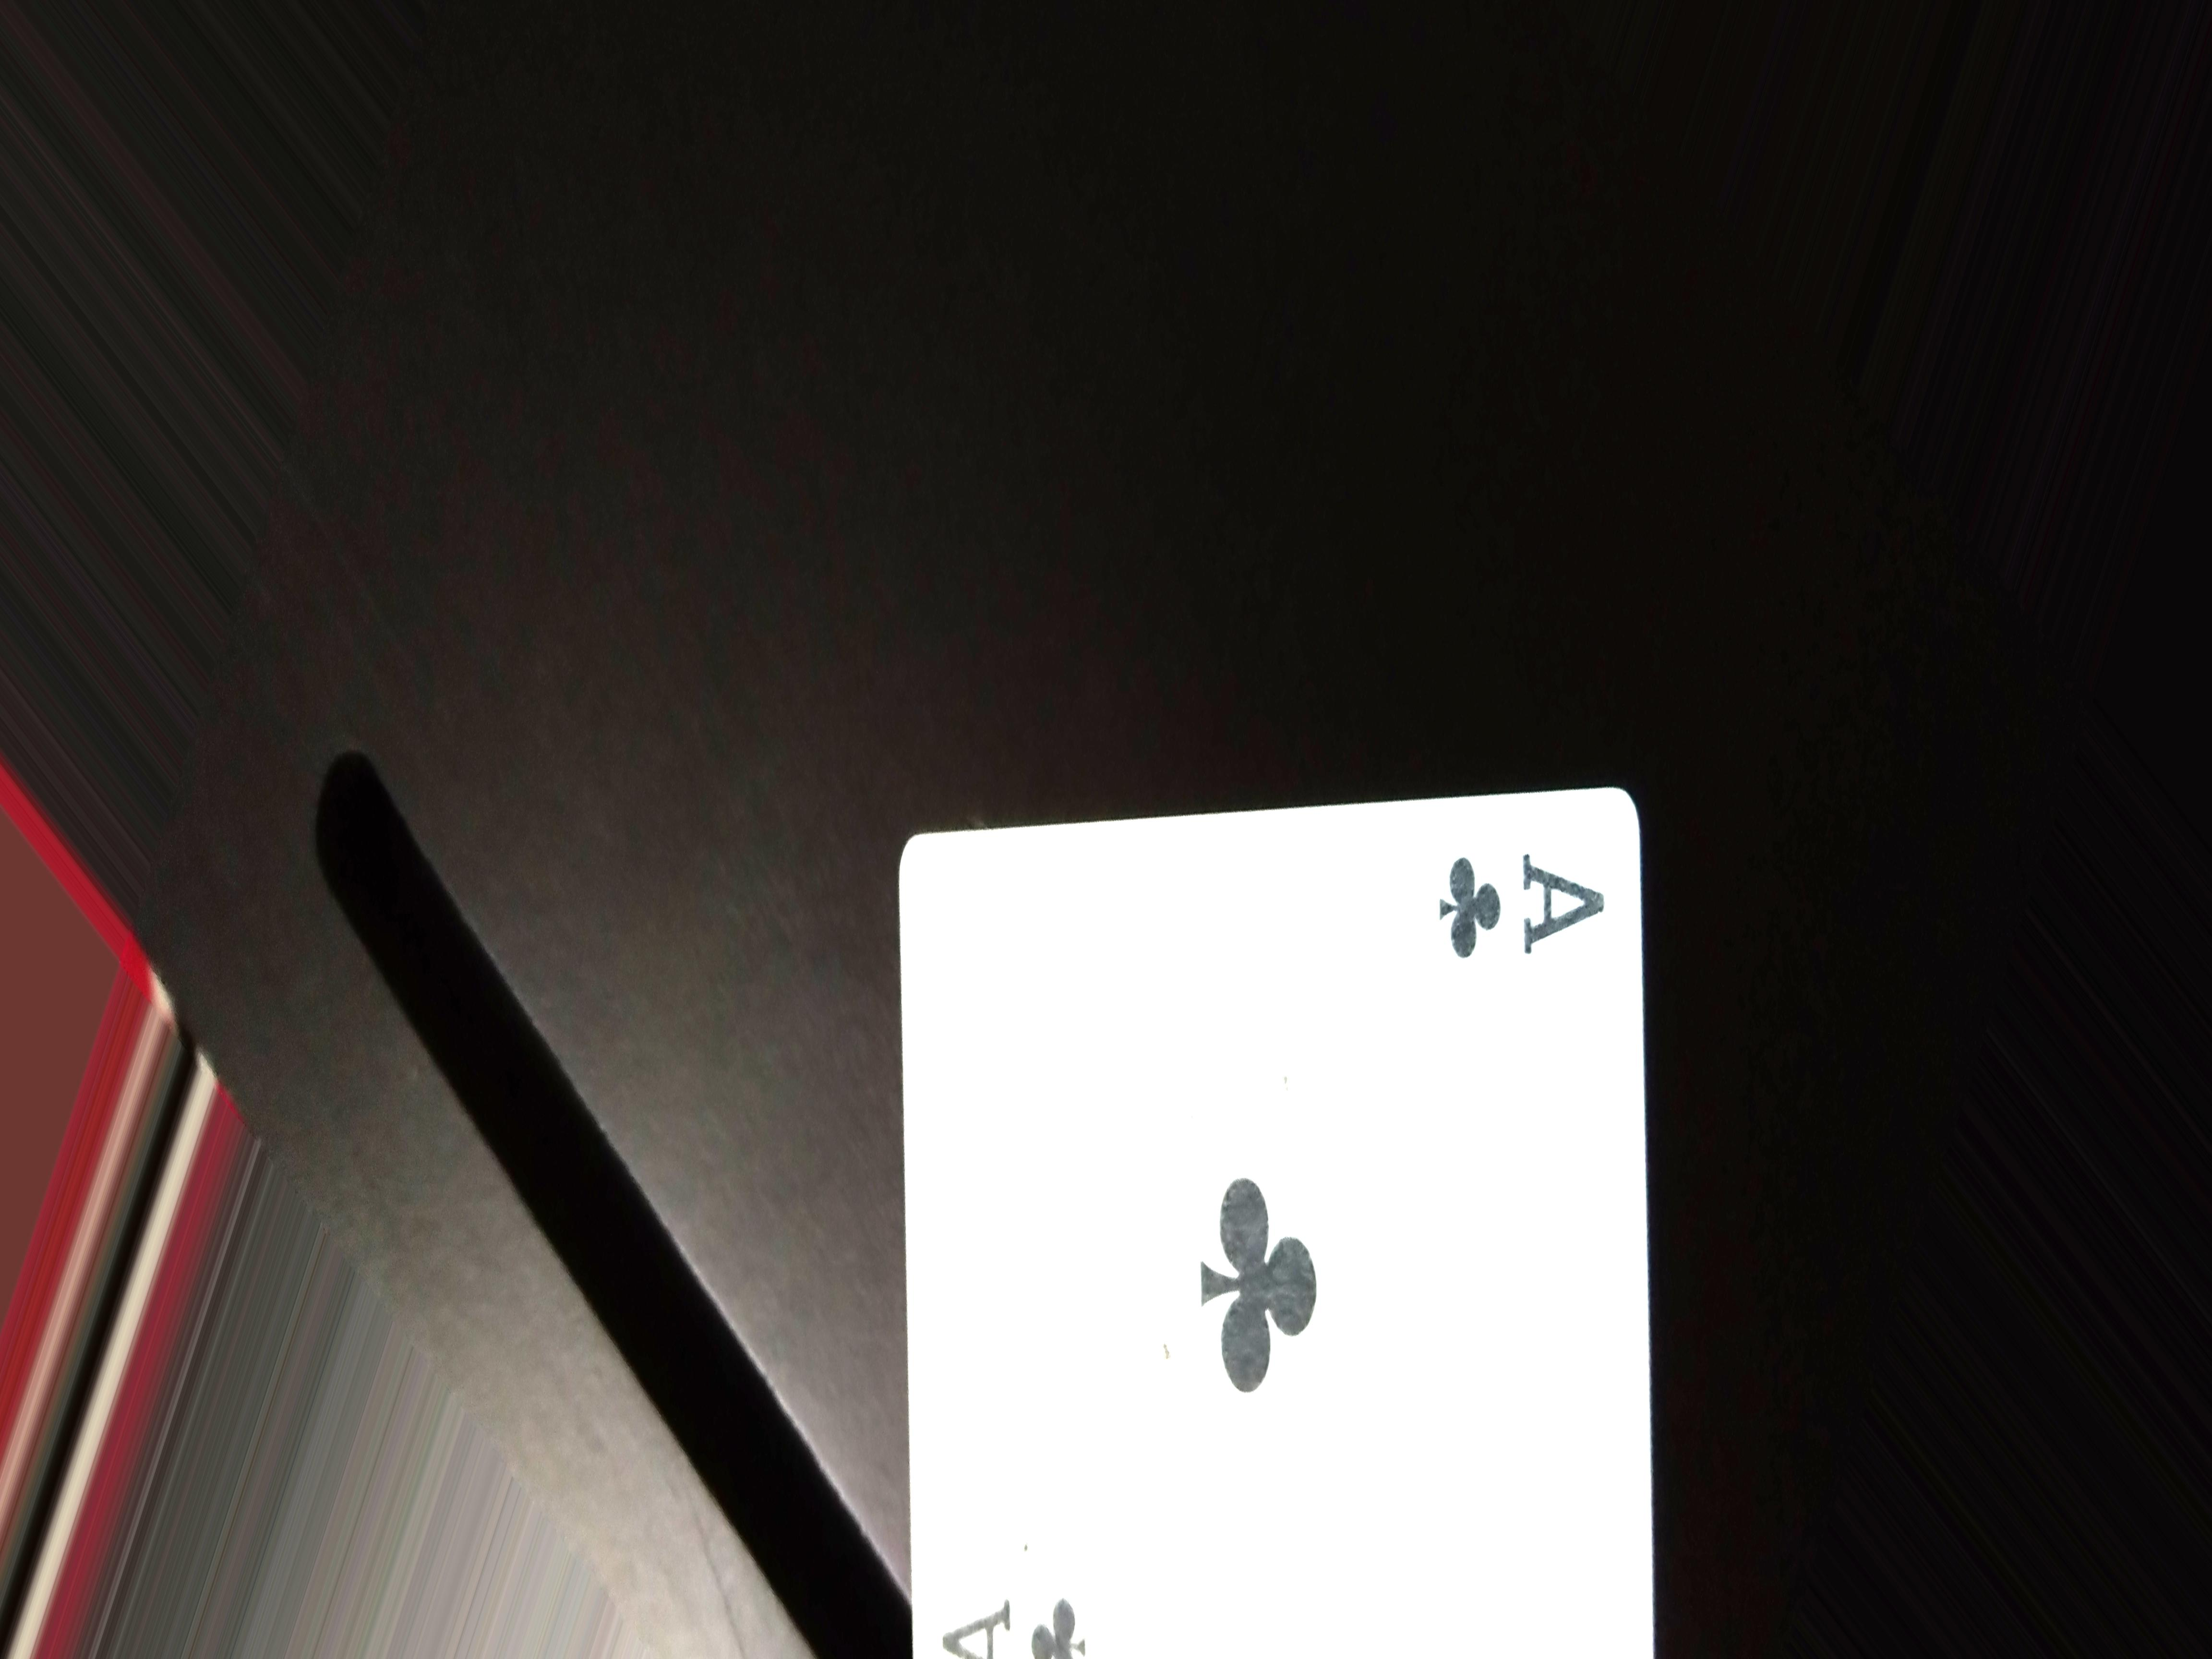AC: (1426, 842, 1629, 979)
